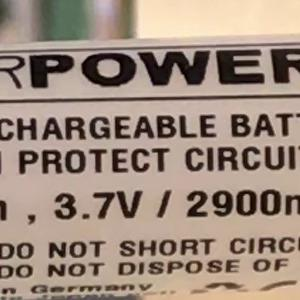keyword: (44, 181, 152, 230)
